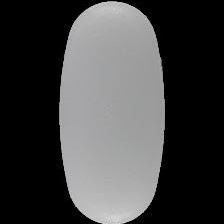0054-0230: (0, 0, 224, 224)
